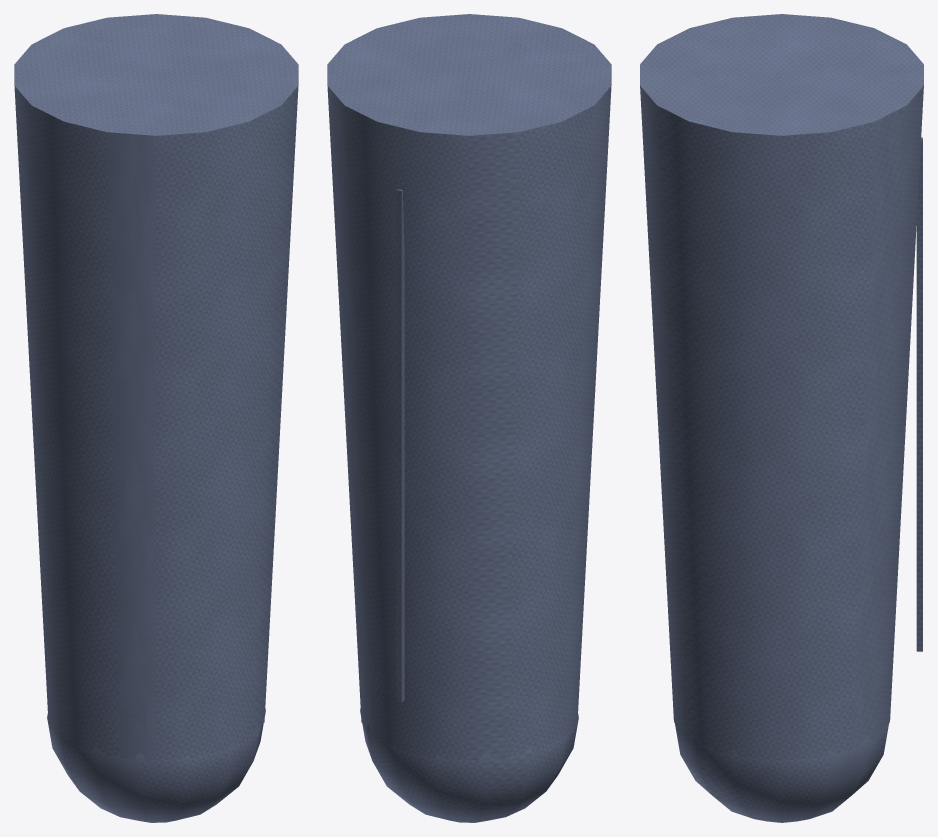
Rendered from person_uleg.glb.
The picture shows the model from 3 angles, left to right: view 1: azimuth 30°, elevation 25°; view 2: azimuth 150°, elevation 25°; view 3: azimuth 270°, elevation 25°; orthographic projection.
Visible parts, largest first — view 1: person_uleg_body; view 2: person_uleg_body; view 3: person_uleg_body.
Part boxes in pixels (box(x1,y1,x2,y2)): person_uleg_body: box(14, 14, 298, 822); person_uleg_body: box(327, 14, 611, 822); person_uleg_body: box(640, 14, 923, 822).
Size of the model in its own units: 0.184 by 0.52 by 0.1812.
2 materials, 2 textured.
